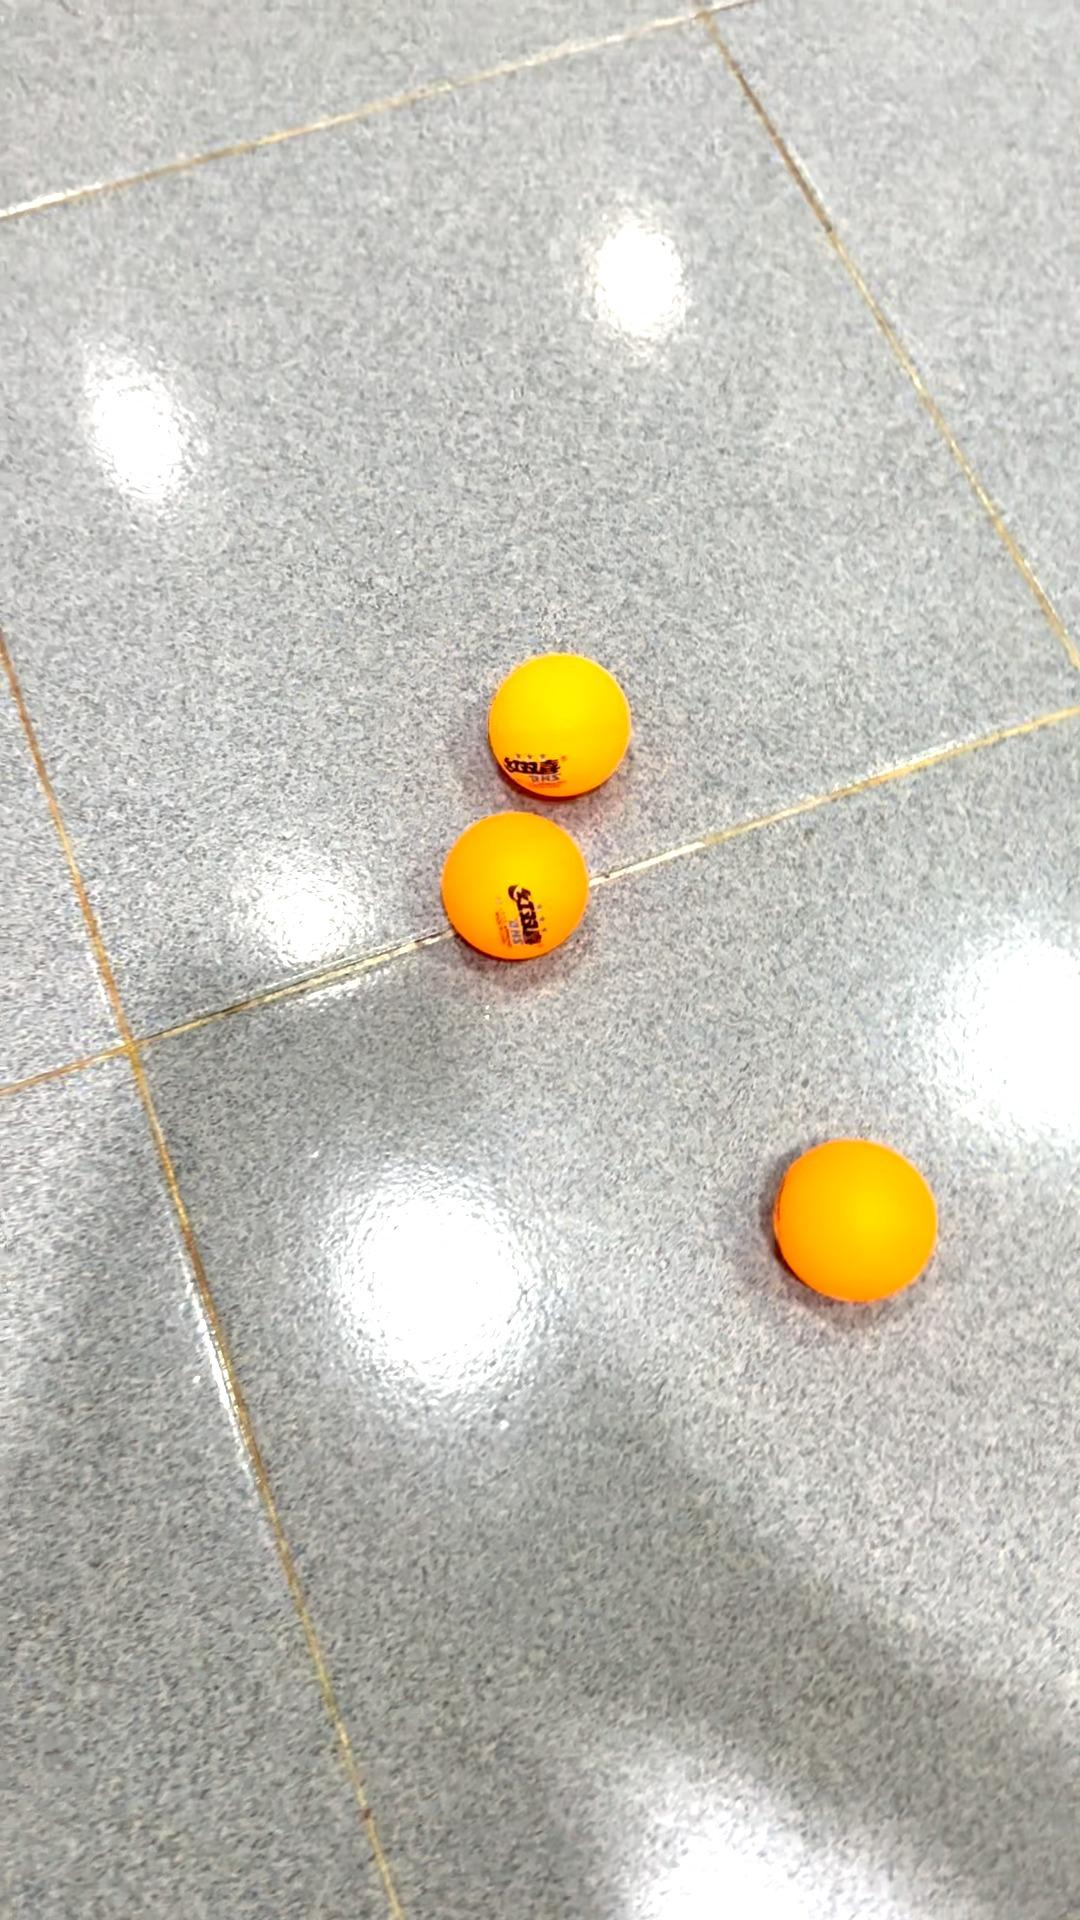oball: (762, 1135, 935, 1311), (435, 802, 595, 968), (481, 641, 637, 804)
